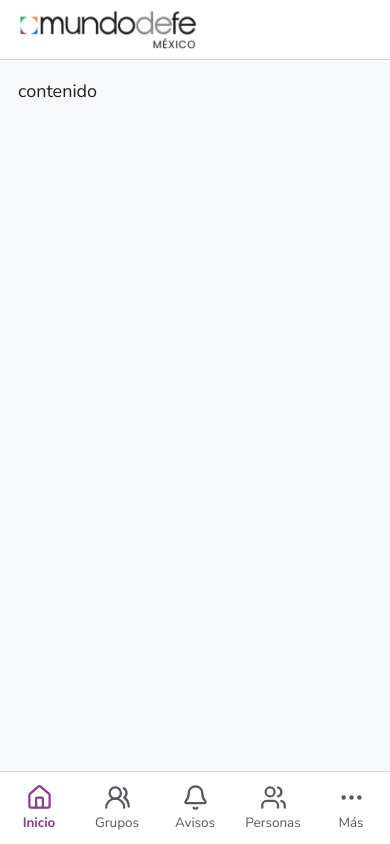
Scenario: AppShell en el celular › «Más» abre una hoja con las demás opciones, incluida «Mi cuenta»
The image size is (390, 844).
Click the button "Más". click: click(351, 808)
box: [312,772,389,843]
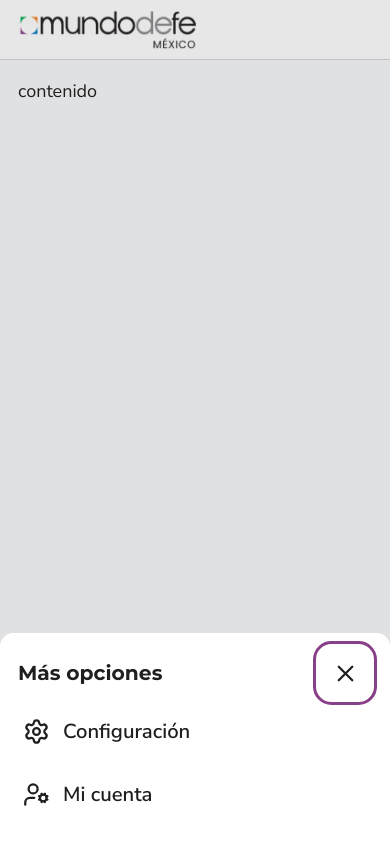
Check: the links read "Configuración", "Mi cuenta", in this order, box [22,718,190,745]; [22,781,152,808]
